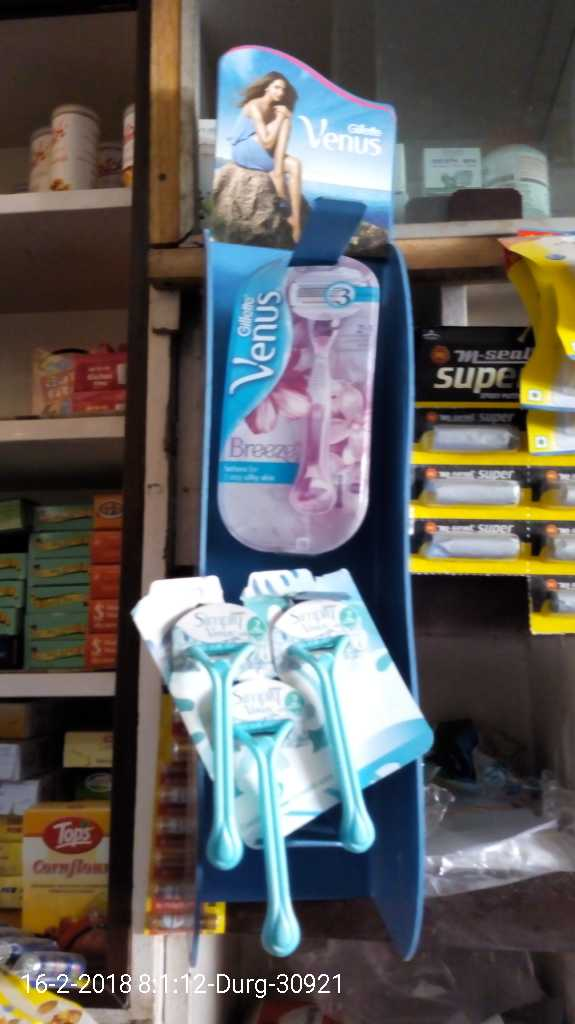venus: (216, 246, 373, 552)
